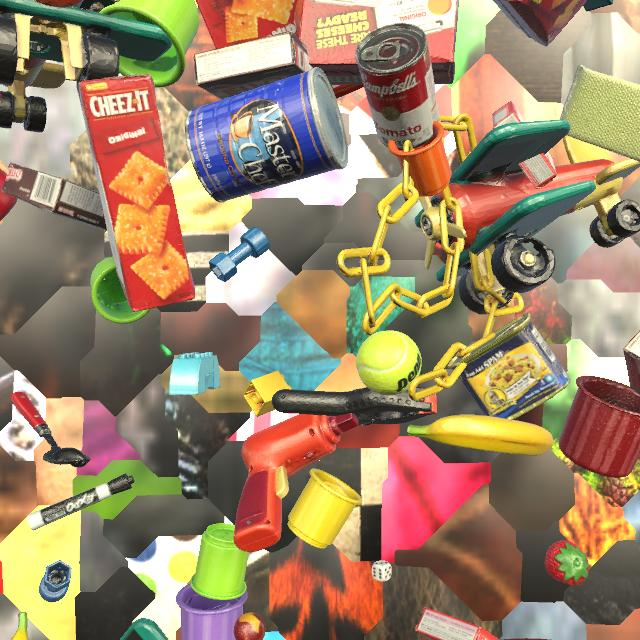ycb_002_master_chef_can: (185, 67, 348, 203)
ycb_003_cracker_box: (78, 74, 195, 312), (196, 0, 364, 99), (299, 0, 459, 85), (493, 0, 587, 47)
ycb_005_tomato_soup_can: (355, 23, 439, 150)
ycb_008_pudding_box: (194, 31, 312, 100), (1, 163, 107, 231), (623, 330, 640, 394)
ycb_009_gelatin_box: (492, 101, 557, 189), (415, 607, 499, 640)
ycb_010_potted_meat_can: (447, 313, 570, 421)
ycb_011_banana: (407, 414, 553, 456), (11, 612, 29, 640)
ycb_012_strawberry: (545, 540, 590, 586)
ycb_013_apple: (0, 169, 18, 221)
ycb_017_orange: (294, 0, 303, 34)
